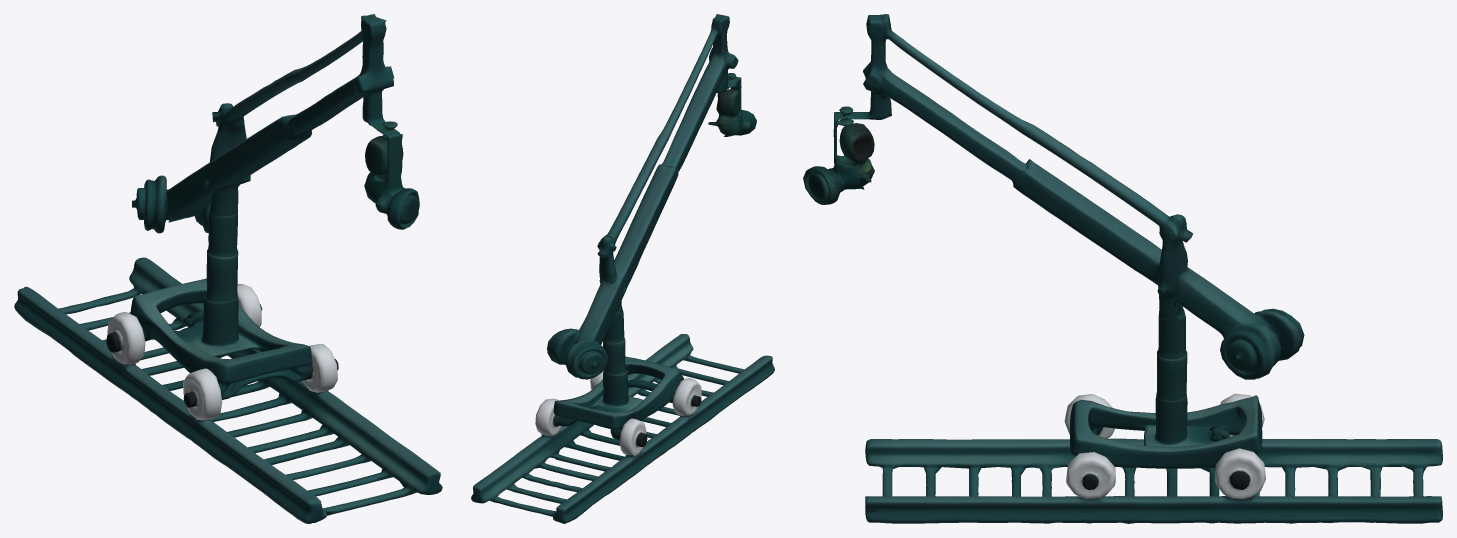
The model's file is original.glb.
3 renders of one model, left to right at view 1: azimuth 30°, elevation 25°; view 2: azimuth 150°, elevation 25°; view 3: azimuth 270°, elevation 25°, orthographic. The views are drawn at different scales.
Visible parts, largest first — view 1: model; view 2: model; view 3: model.
Part boxes in pixels (x1=…): model: x1=14, y1=14, x2=442, y2=523; model: x1=471, y1=14, x2=774, y2=523; model: x1=803, y1=14, x2=1442, y2=523.
Bounding box in the file's own units: 0.5009 × 1.57 × 1.9.
Materials: 1 (1 with a texture image).
